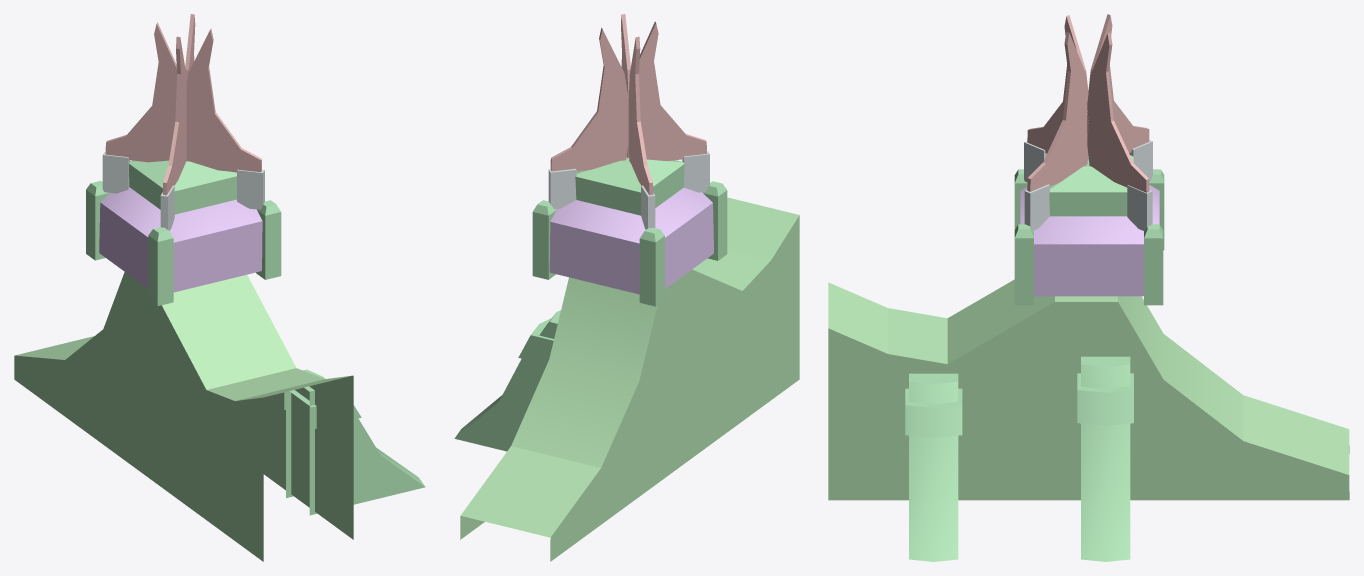
The picture shows the model from 3 angles, left to right: view 1: azimuth 30°, elevation 25°; view 2: azimuth 150°, elevation 25°; view 3: azimuth 270°, elevation 25°; orthographic projection. The views are drawn at different scales.
Visible parts, largest first — view 1: Object61; view 2: Object61; view 3: Object61.
Part boxes in pixels (bbox=[...]): Object61: bbox=[14, 14, 425, 561]; Object61: bbox=[454, 14, 799, 561]; Object61: bbox=[828, 14, 1349, 561].
Size of the model in its own units: 314 by 589 by 609.
